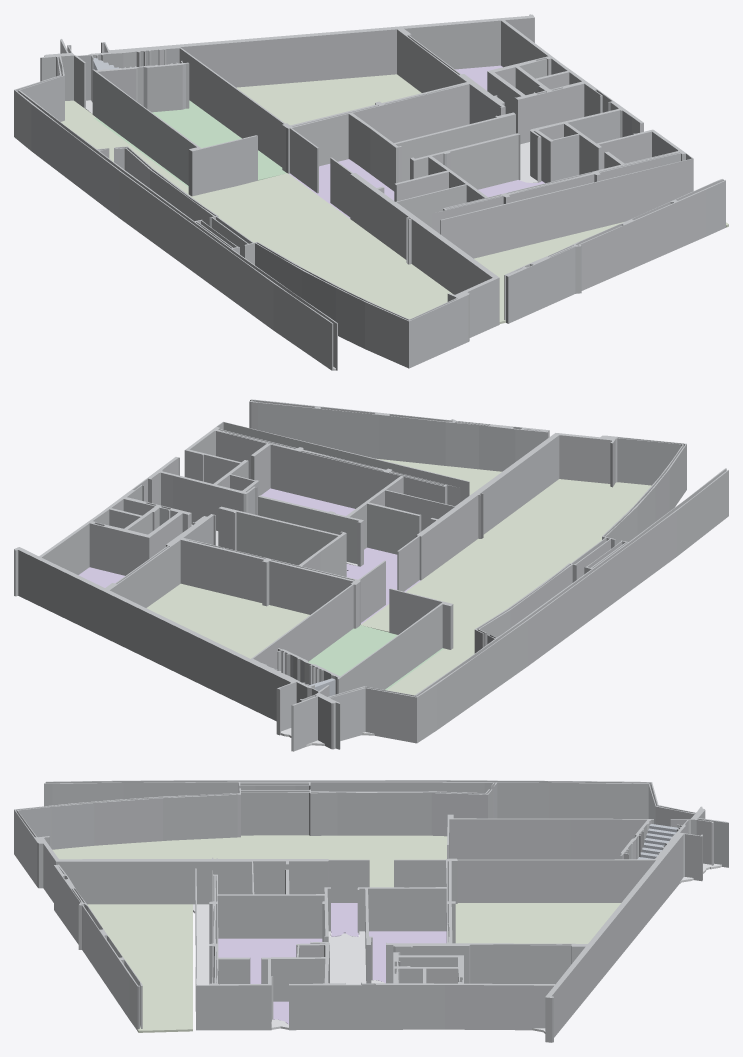
File: BlocoB.glb
3 renders of one model, top to bottom at view 1: azimuth 30°, elevation 25°; view 2: azimuth 150°, elevation 25°; view 3: azimuth 270°, elevation 25°, orthographic. The views are drawn at different scales.
Parts seen in each view (by area): view 1: B0 — Paredes, B0 — Área coberta / acesso, B0 — Jardim, B0 — Laboratório Maker, B0 — Recepção; view 2: B0 — Paredes, B0 — Área coberta / acesso, B0 — Jardim, B0 — Laboratório Maker, B0 — Recepção, B0 — Secretaria; view 3: B0 — Paredes, B0 — Jardim, B0 — Área coberta / acesso, B0 — Circulação, B0 — Secretaria, B0 — Atendimento à Empresa, B0 — Recepção, B — Escada 5.
Boxes of the visible parts, left/top/right/bottom form: B0 — Paredes: left=14, top=14, right=725, bottom=370; B0 — Área coberta / acesso: left=61, top=100, right=453, bottom=318; B0 — Jardim: left=236, top=74, right=728, bottom=323; B0 — Laboratório Maker: left=94, top=100, right=286, bottom=187; B0 — Recepção: left=289, top=159, right=394, bottom=218; B0 — Paredes: left=14, top=399, right=728, bottom=751; B0 — Área coberta / acesso: left=360, top=479, right=651, bottom=695; B0 — Jardim: left=146, top=458, right=501, bottom=658; B0 — Laboratório Maker: left=308, top=625, right=443, bottom=690; B0 — Recepção: left=346, top=547, right=420, bottom=624; B0 — Secretaria: left=261, top=488, right=354, bottom=515; B0 — Paredes: left=14, top=780, right=728, bottom=1042; B0 — Jardim: left=87, top=903, right=620, bottom=1032; B0 — Área coberta / acesso: left=52, top=835, right=447, bottom=887; B0 — Circulação: left=193, top=863, right=721, bottom=1033; B0 — Secretaria: left=218, top=938, right=322, bottom=983; B0 — Atendimento à Empresa: left=369, top=931, right=446, bottom=983; B0 — Recepção: left=331, top=903, right=358, bottom=936; B — Escada 5: left=637, top=824, right=678, bottom=859.
Bounding box in the file's own units: 272 × 26.1 × 378.
